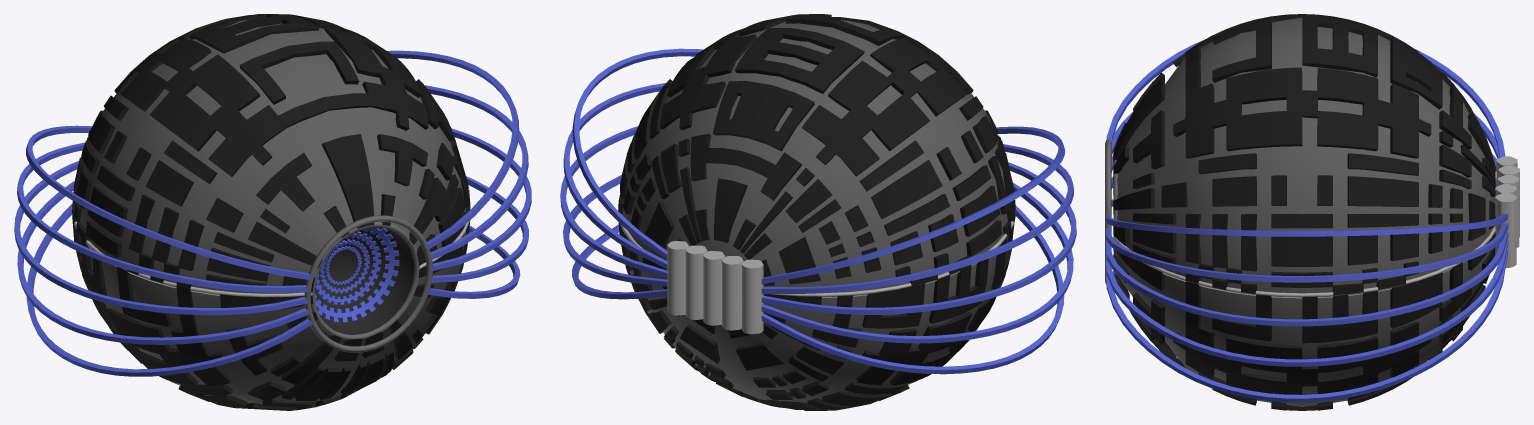
File: Deathstar 100%.fbx
3 renders of one model, left to right at view 1: azimuth 30°, elevation 25°; view 2: azimuth 150°, elevation 25°; view 3: azimuth 270°, elevation 25°, orthographic.
Parts seen in each view (by area): view 1: pSphere29, pSphere28, pCube11, pSphere8, pCylinder17, pTorus3, pTorus1, pTorus2; view 2: pSphere29, pSphere28, pCube11, pCylinder19, pTorus2; view 3: pSphere29, pSphere28, pCube11, pCylinder19, pTorus2, pTorus3.
Part boxes in pixels (x1,y1,x2,y2): pSphere29: (72,14,470,410); pSphere28: (78,20,465,404); pCube11: (14,50,531,376); pSphere8: (315,227,414,334); pCylinder17: (314,227,399,322); pTorus3: (304,215,432,352); pTorus1: (311,221,419,340); pTorus2: (74,207,469,297); pSphere29: (618,14,1015,410); pSphere28: (622,20,1008,403); pCube11: (560,48,1076,374); pCylinder19: (667,241,763,334); pTorus2: (620,211,1015,297); pSphere29: (1113,14,1495,410); pSphere28: (1117,17,1495,406); pCube11: (1106,40,1508,402); pCylinder19: (1495,156,1519,267); pTorus2: (1113,186,1495,298); pTorus3: (1105,139,1111,285).
Size of the model in its own units: 1457 by 1082 by 1131.
